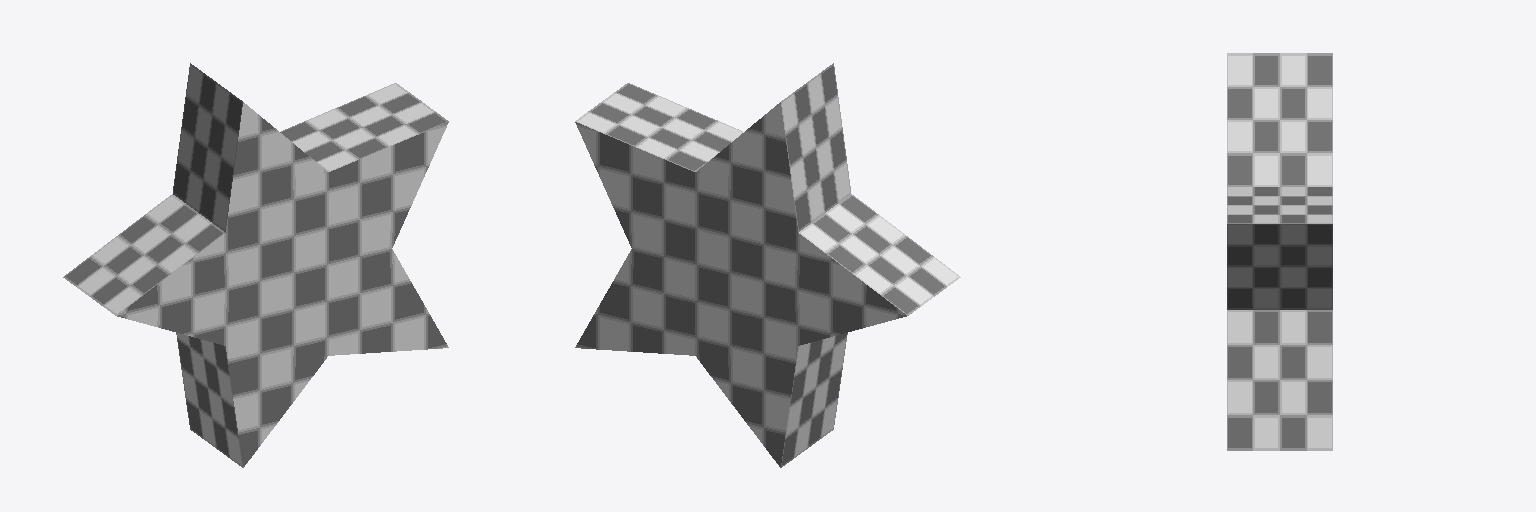
3 renders of one model, left to right at view 1: azimuth 30°, elevation 25°; view 2: azimuth 150°, elevation 25°; view 3: azimuth 270°, elevation 25°, orthographic.
Parts seen in each view (by area): view 1: Star.001; view 2: Star.001; view 3: Star.001.
Boxes of the visible parts, box(x1,y1,x2,y2) form: Star.001: box(63, 63, 448, 467); Star.001: box(575, 63, 960, 467); Star.001: box(1227, 53, 1332, 450).
Bounding box in the file's own units: 1.81 × 1.9 × 0.5.
1 materials, 1 textured.